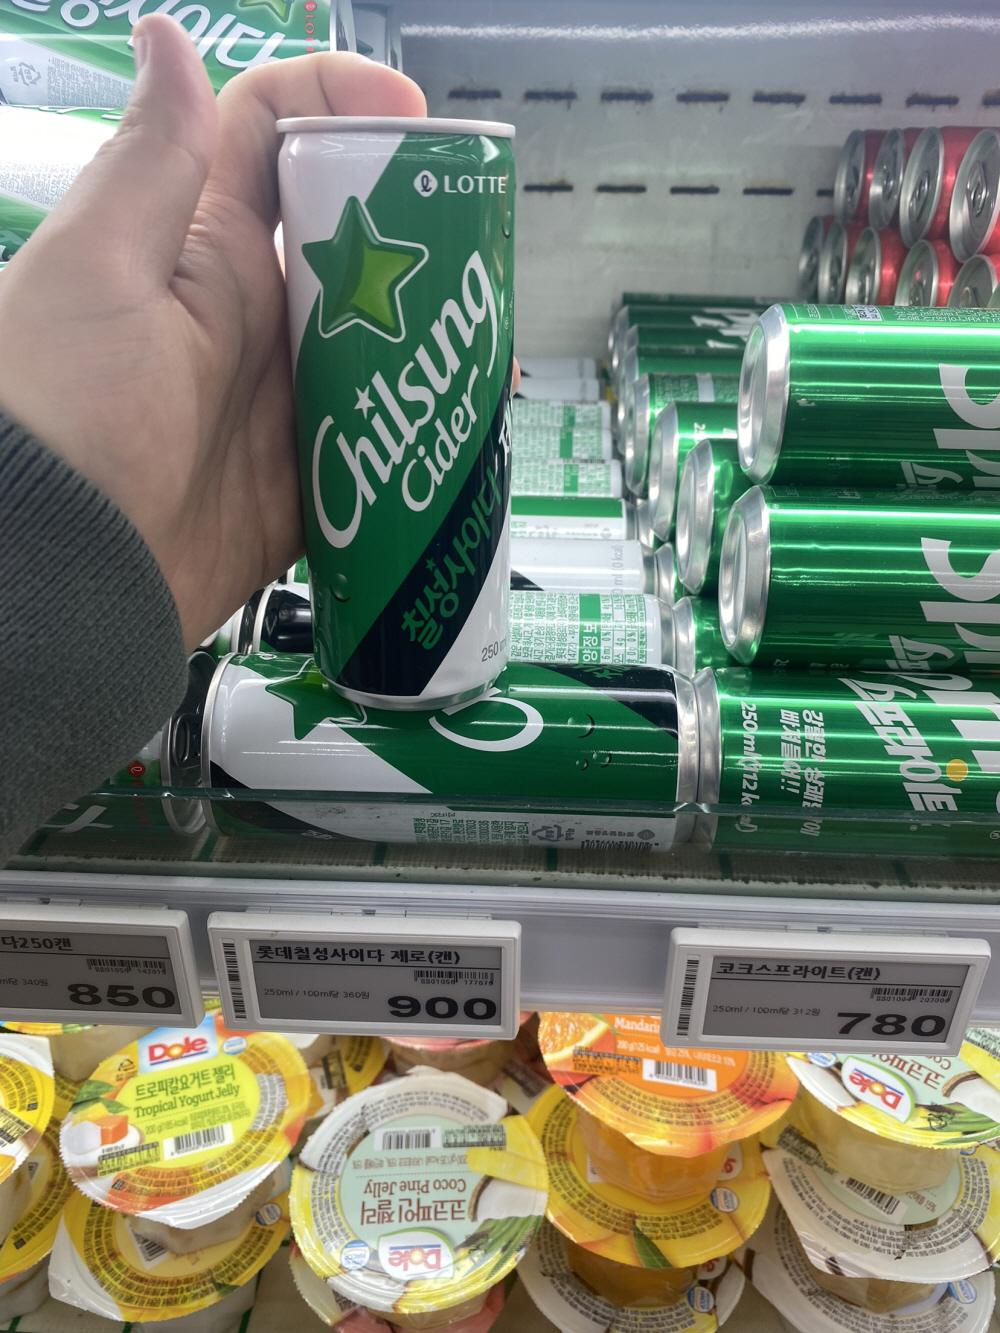chilsungcider_zero: (271, 104, 523, 704)
